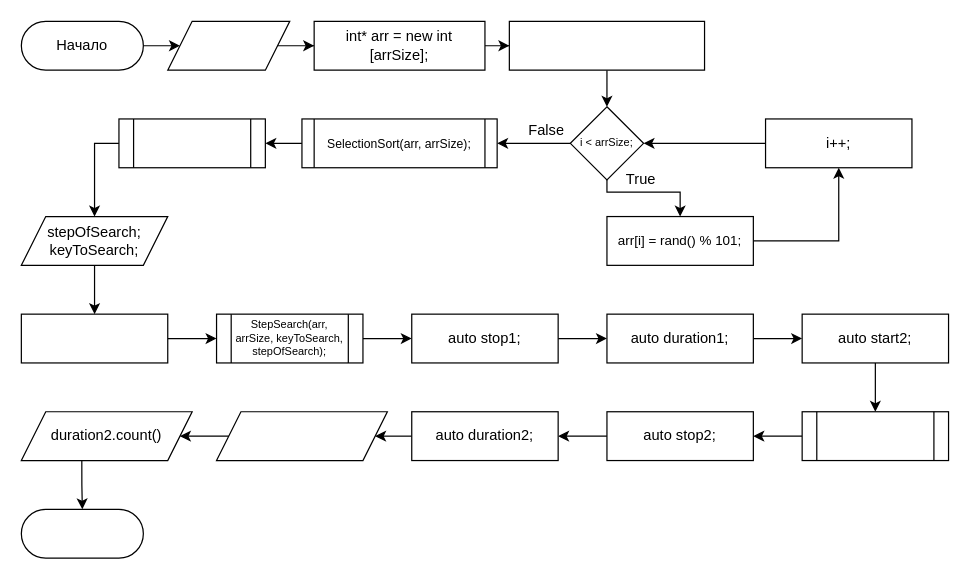
This 970x580 diagram has some shape labels left out. The shapes that lost their labels are listed below. From the top down, each one's centre as x and y in pixels, then its label:
the point at 228,45: int arrSize;
the point at 606,45: int stepOfSearch, keyToSearch;
the point at 191,143: ArrayPrint();
the point at 94,338: auto start1;
the point at 301,436: duration1.count()
the point at 875,436: InterSearch(arr, keyToSearch, arrSize);
the point at 81,533: Край
